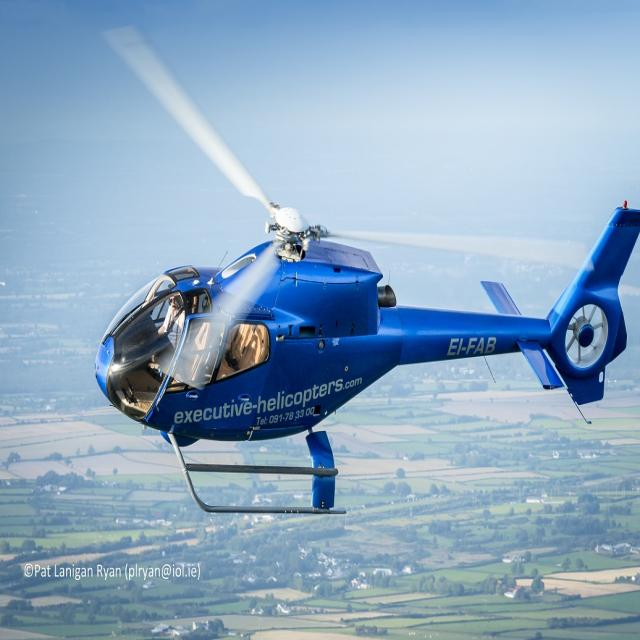helicopter: (88, 27, 640, 523)
